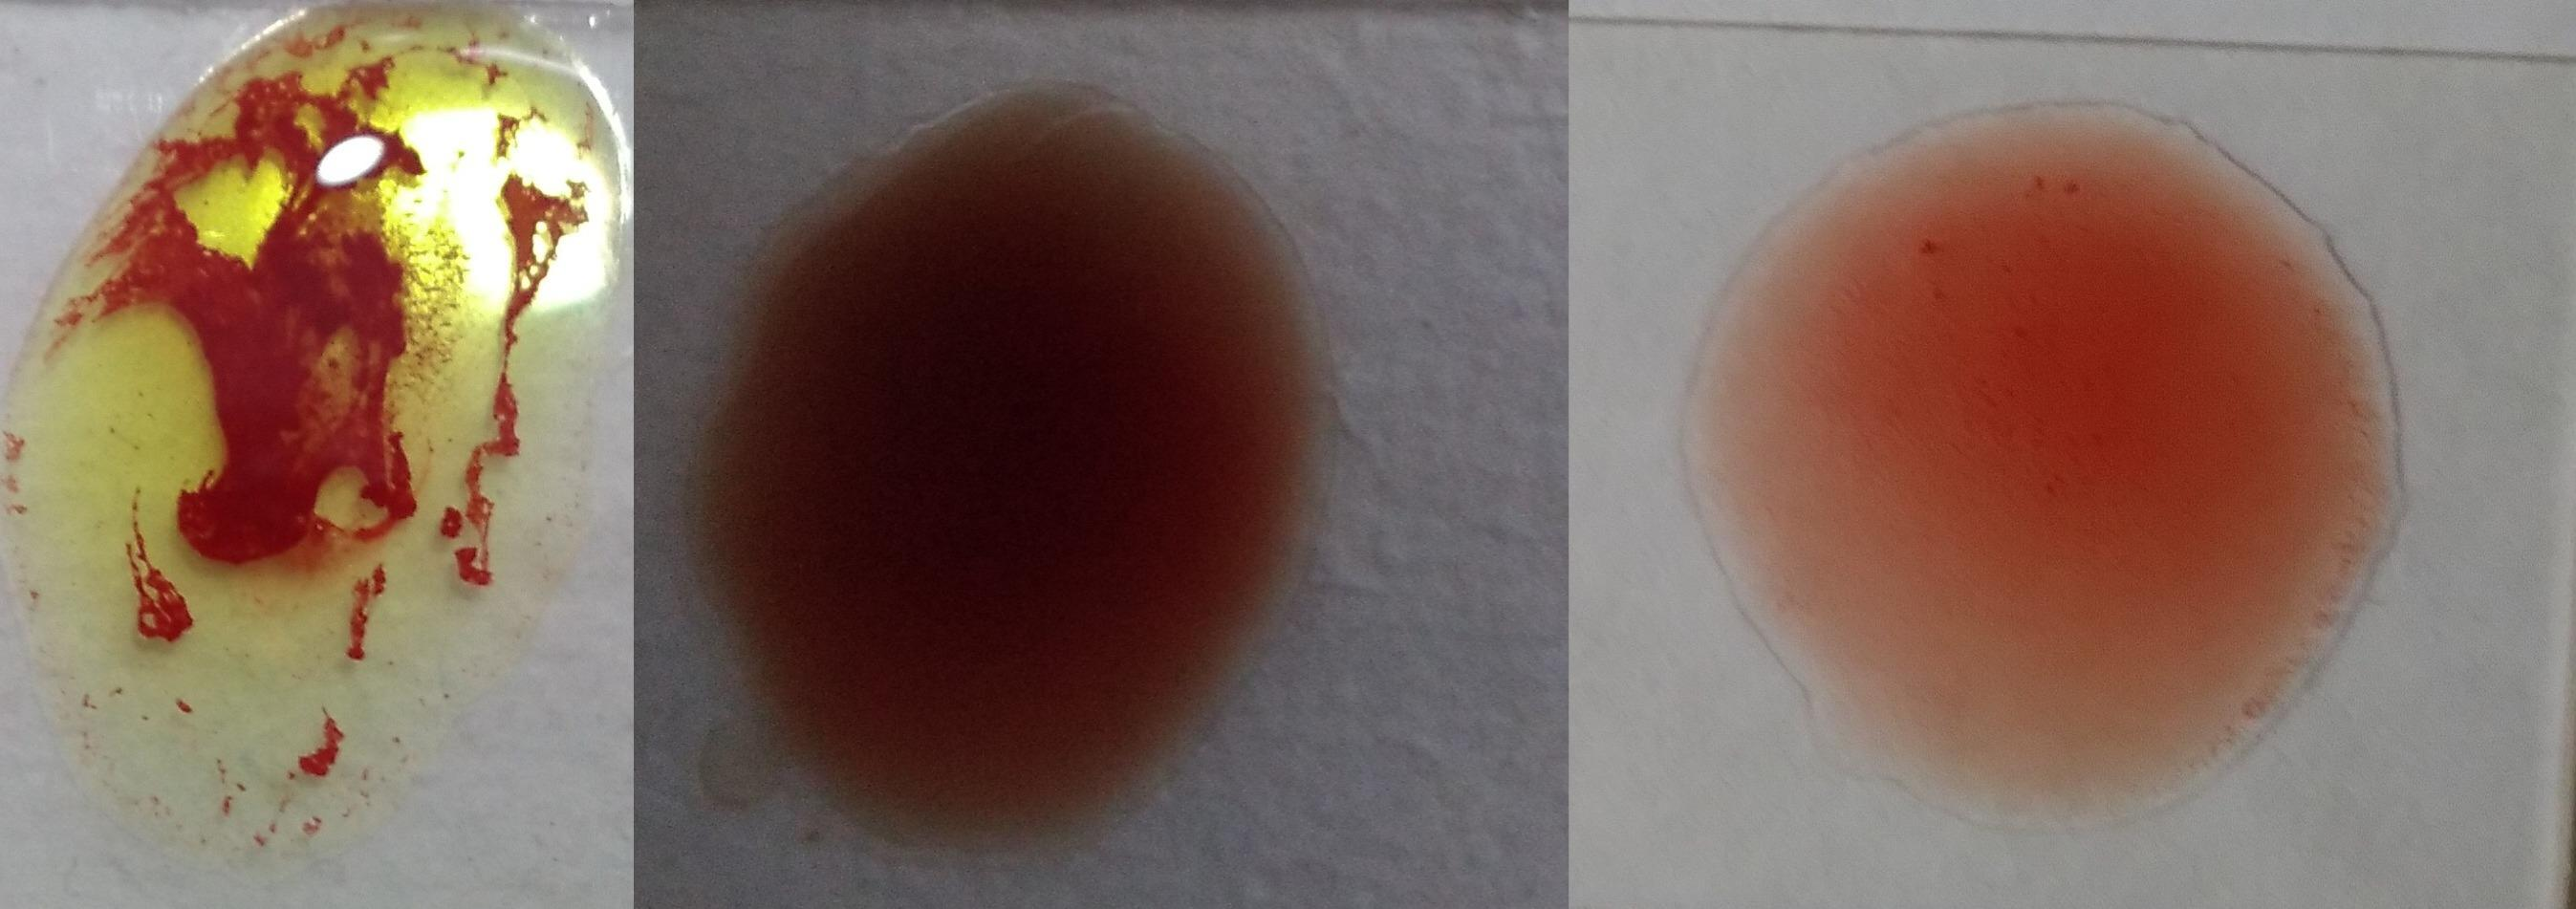B: (26, 10, 577, 827)
